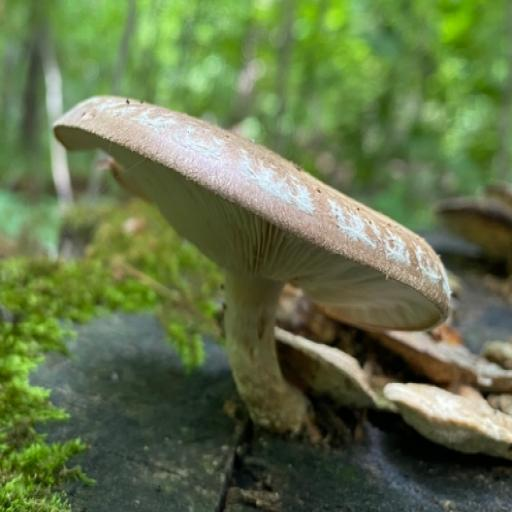Shiitake Mushroom: (40, 0, 464, 435)
